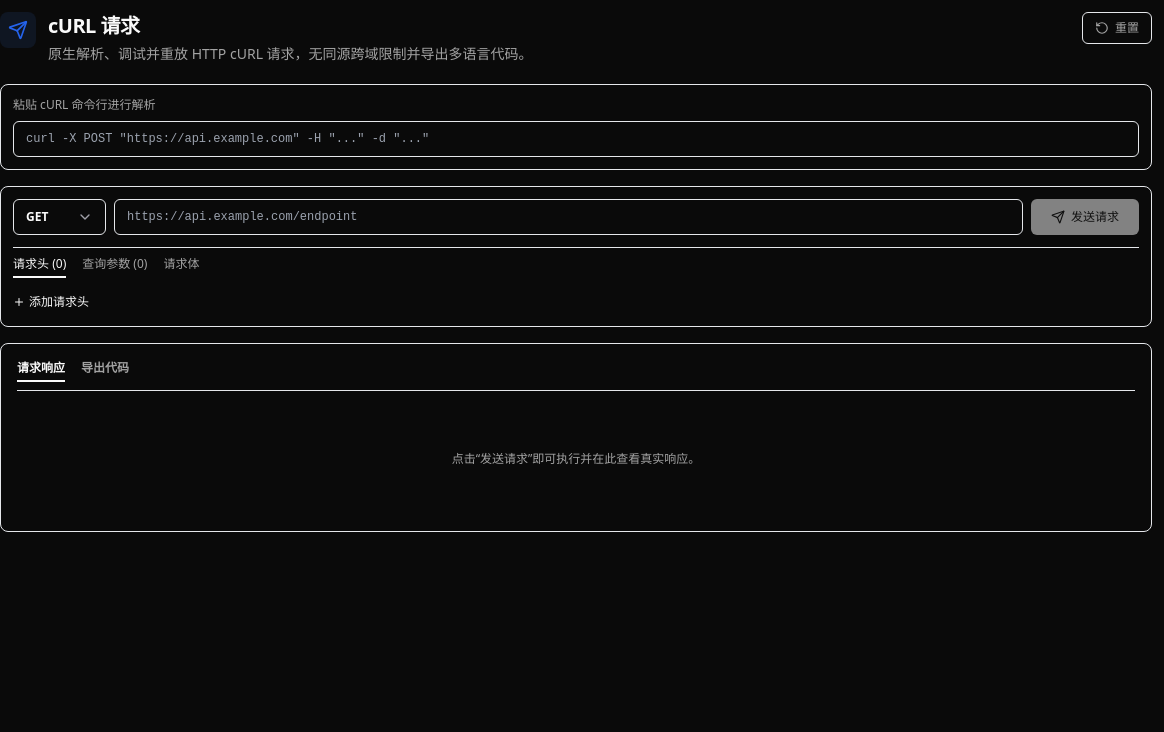
Scenario: CurlPlaygroundTool › parses input curl command and updates endpoint
Type "curl \"https://api.github.com/users/octocat\"" into the field with placeholder "curl -X POST \"https://api.example.com\" -H \"...\" -d \"...\"" at (576, 139), box [13,121,1139,157]
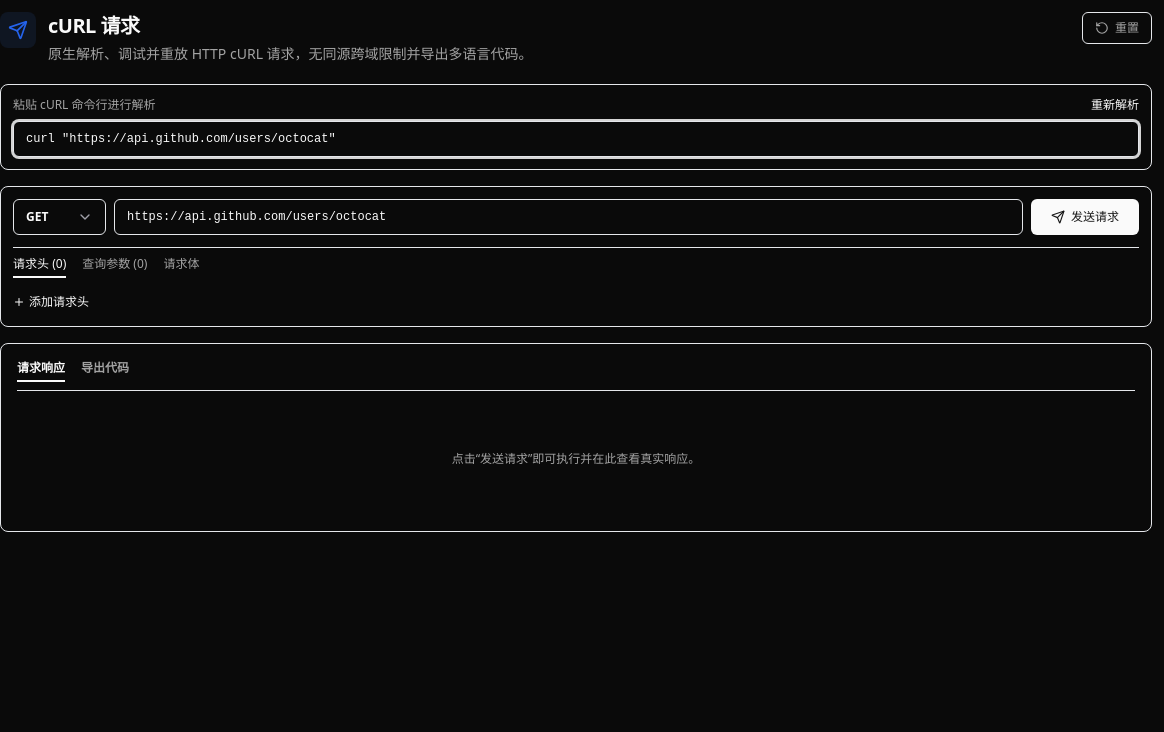
Now the 2nd field with placeholder "https://api.example.com/endpoint" holds "https://api.github.com/users/octocat", box [114,199,1023,235]
